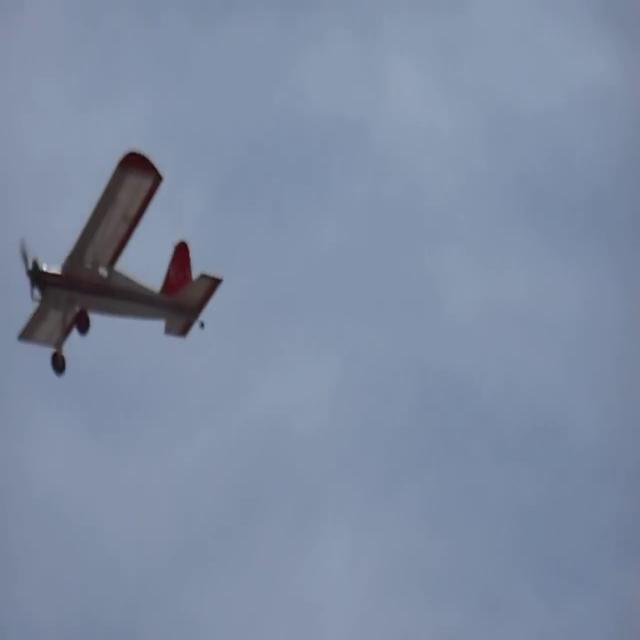iha: (0, 145, 161, 371)
